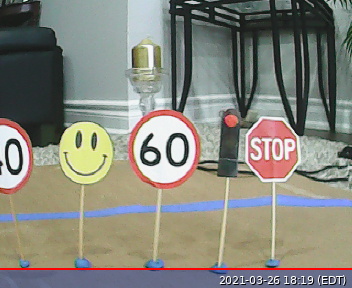Person: (59, 120, 113, 184)
Red Traffic Light: (215, 107, 241, 178)
Speed Limit 60: (127, 109, 202, 189)
Stop Sign: (245, 115, 302, 184)
